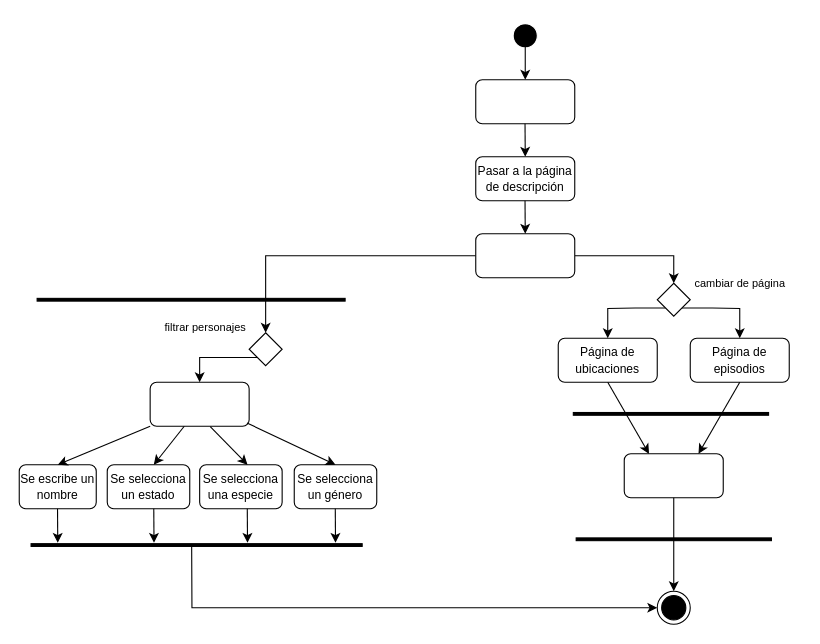
Some shapes in this 820 by 644 pixel diagram are drawn without their labels. Each missing label, with the centre of its shape:
Entrar a la página de inicio: the point at 525,101
Página de personajes: the point at 525,255
Se abre el apartado filtros: the point at 199,403
Ver personajes: the point at 673,475
